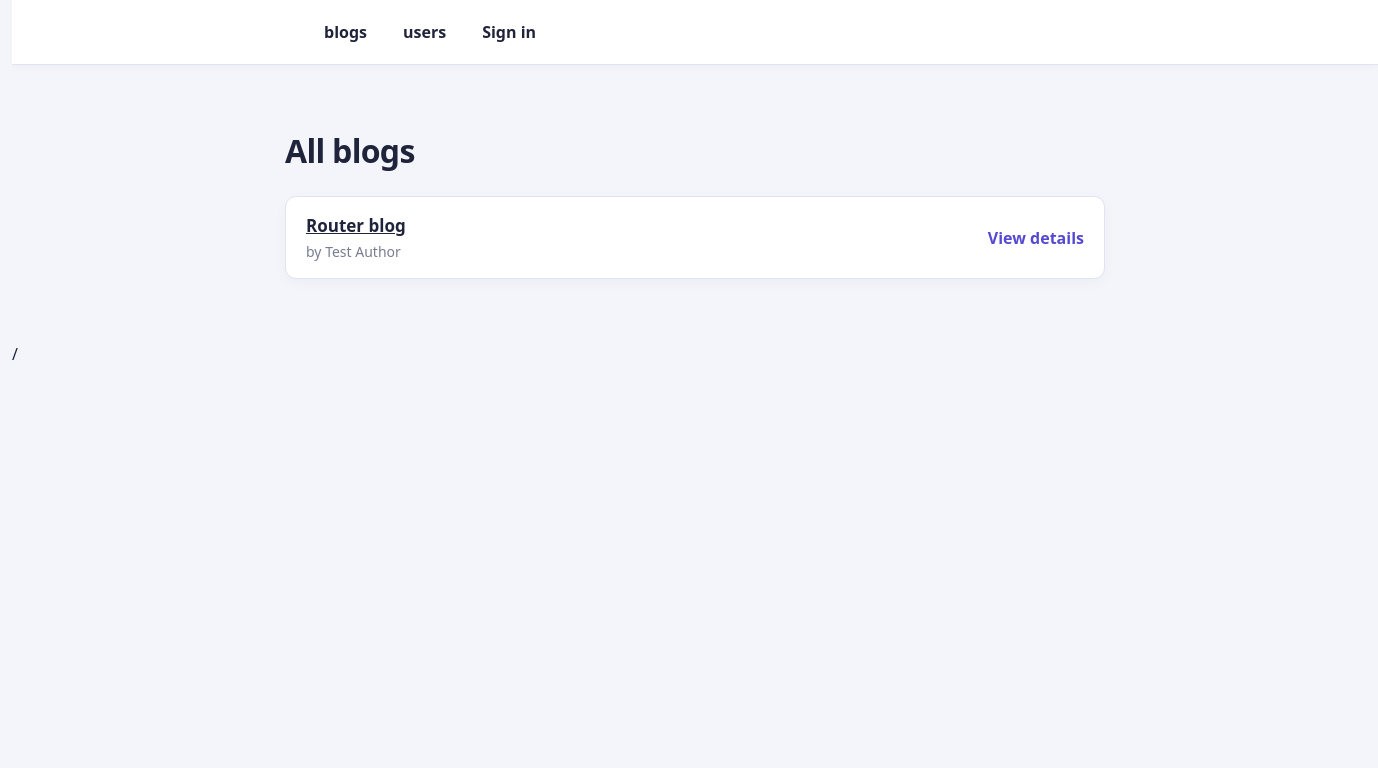
Test case: App routes and navigation › shows all blogs by default and opens a blog details route
Expected: the heading "All blogs" is shown, [285, 129, 415, 172]
What coordinates should you click on to do the following:
click the link "View details"
I would click on:
 (1036, 238)
Its box is [988, 226, 1084, 248].
(page scrolled)
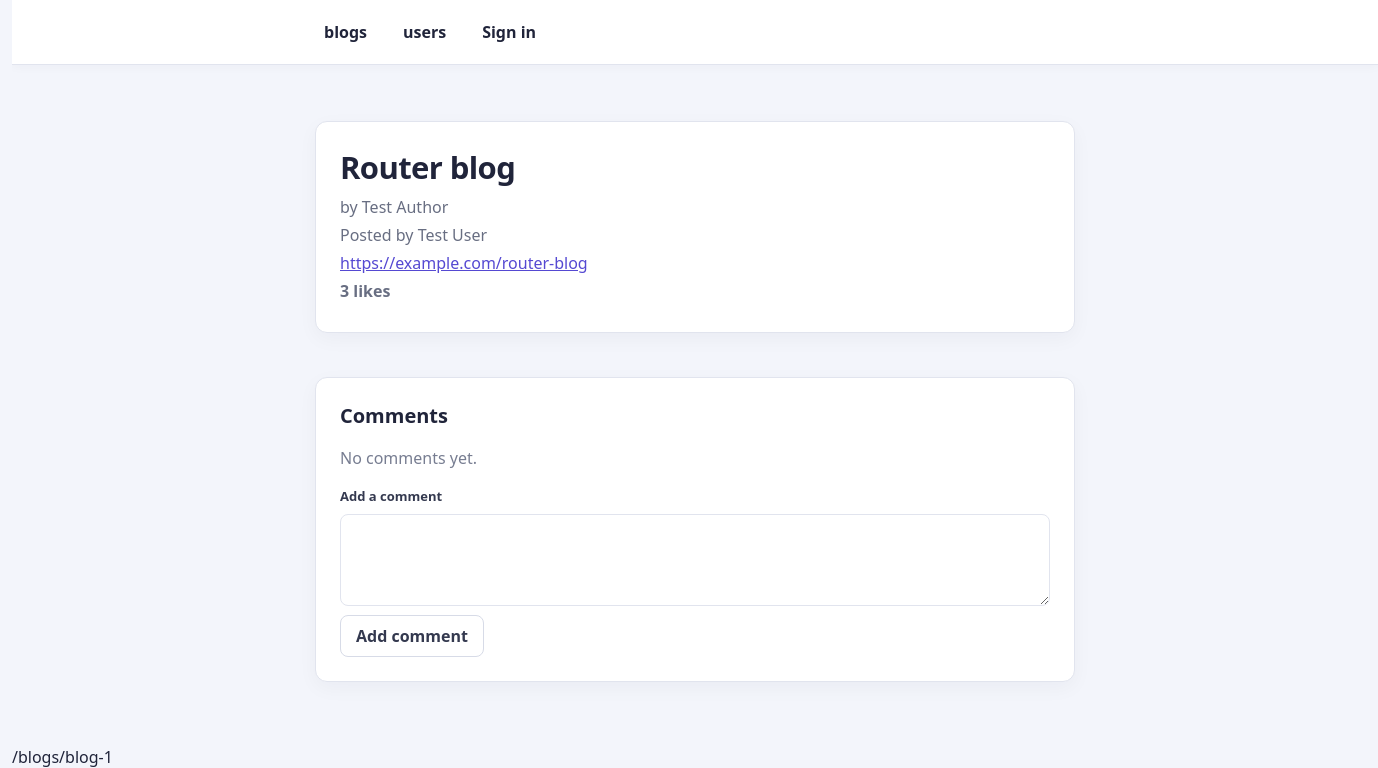
Result: the link "https://example.com/router-blog" is shown at [340, 252, 588, 274]
Result: the text named "Current path" reads "/blogs/blog-1" at [12, 746, 113, 767]
